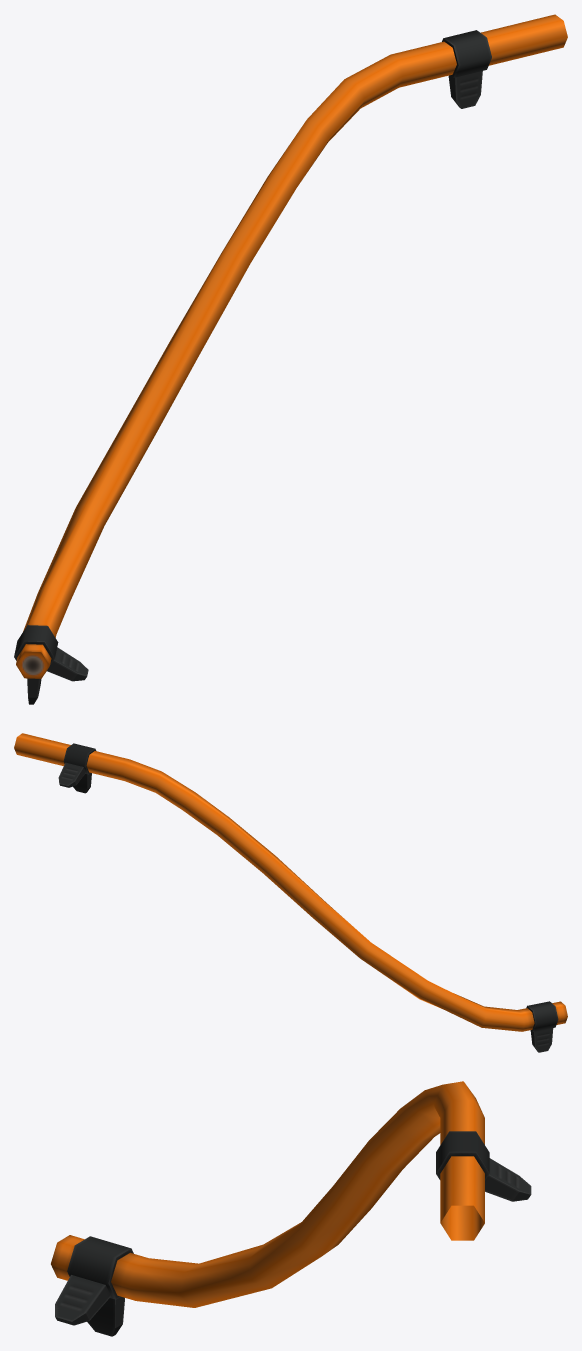
Rendered from jsf_GasRange_03b.fbx.
The picture shows the model from 3 angles, top to bottom: view 1: azimuth 30°, elevation 25°; view 2: azimuth 150°, elevation 25°; view 3: azimuth 270°, elevation 25°; orthographic projection. The views are drawn at different scales.
Parts seen in each view (by area): view 1: GasHose; view 2: GasHose; view 3: GasHose.
Part boxes in pixels (x1,y1,x2,y2): GasHose: (14,14,567,704); GasHose: (14,733,567,1052); GasHose: (51,1081,531,1336).
Bounding box in the file's own units: 41.34 × 24.25 × 19.04.
